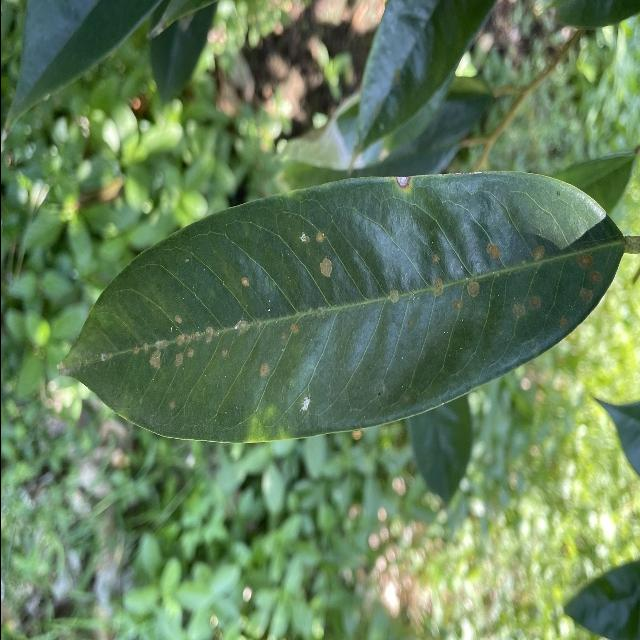Algal Leaf Spot: (55, 165, 627, 449)
